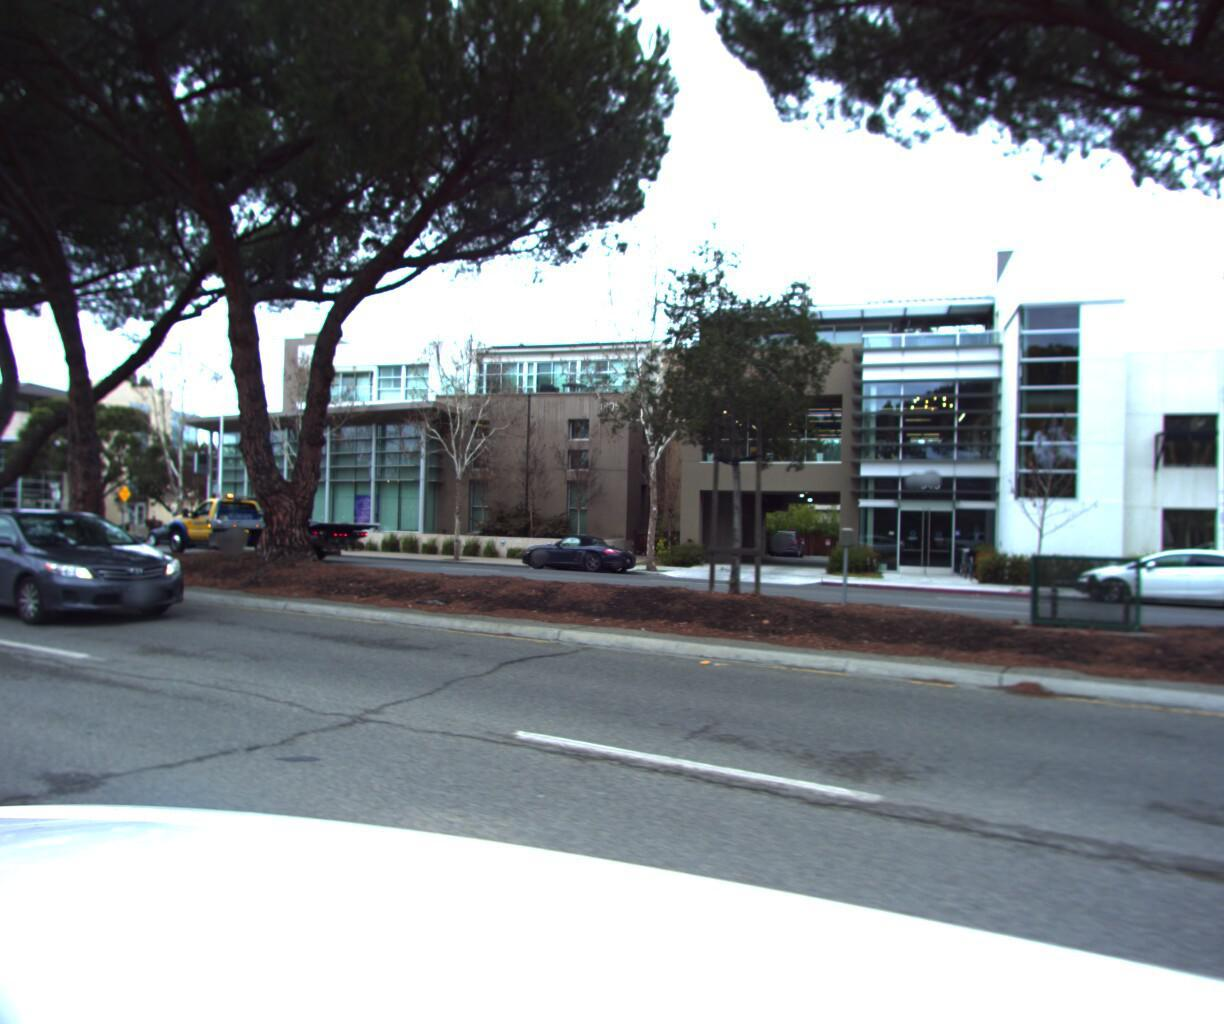car: (1070, 543, 1224, 618), (508, 534, 641, 580), (141, 521, 239, 556)
truck: (150, 497, 387, 570)
